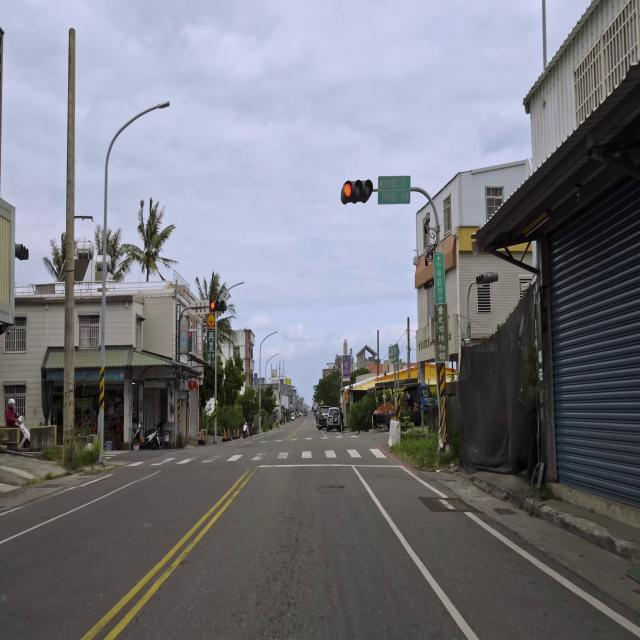red light: (340, 179, 373, 203), (210, 301, 227, 311)
